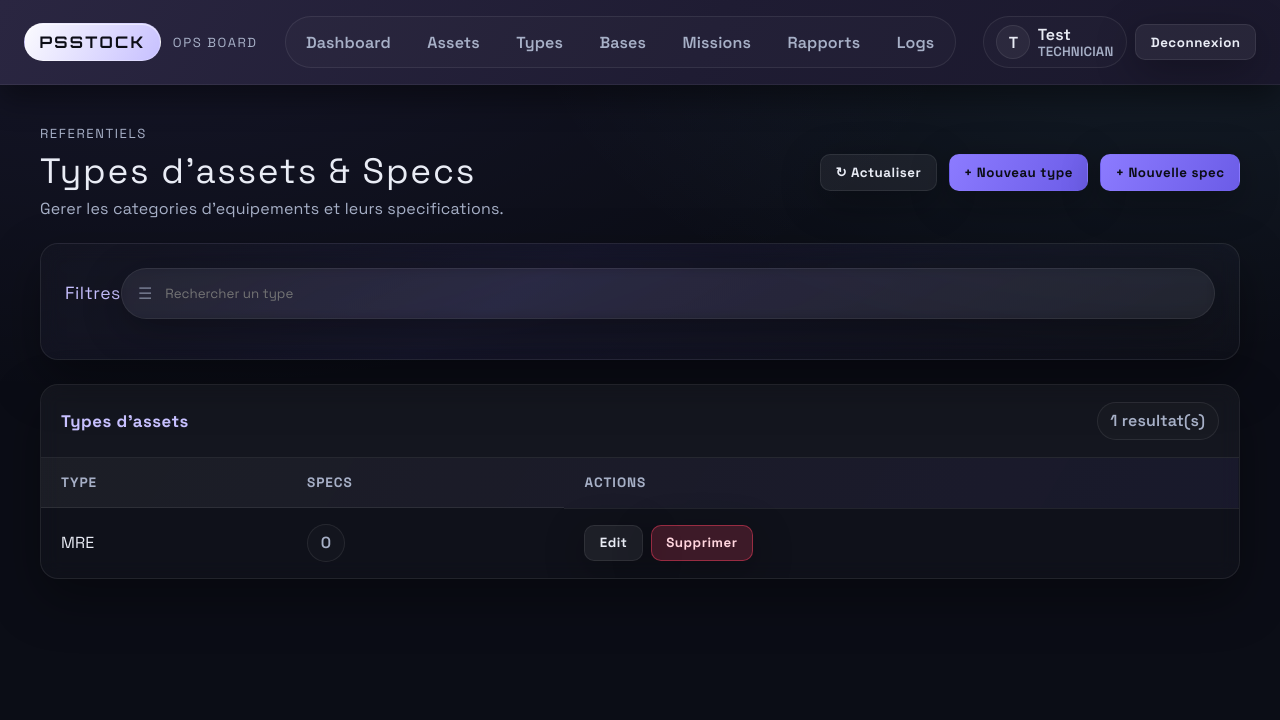
AssetTypesPage – spec panel › shows empty message when no specs
The width and height of the screenshot is (1280, 720).
Click the text "MRE".
click(164, 543)  # box [41,508,287,578]
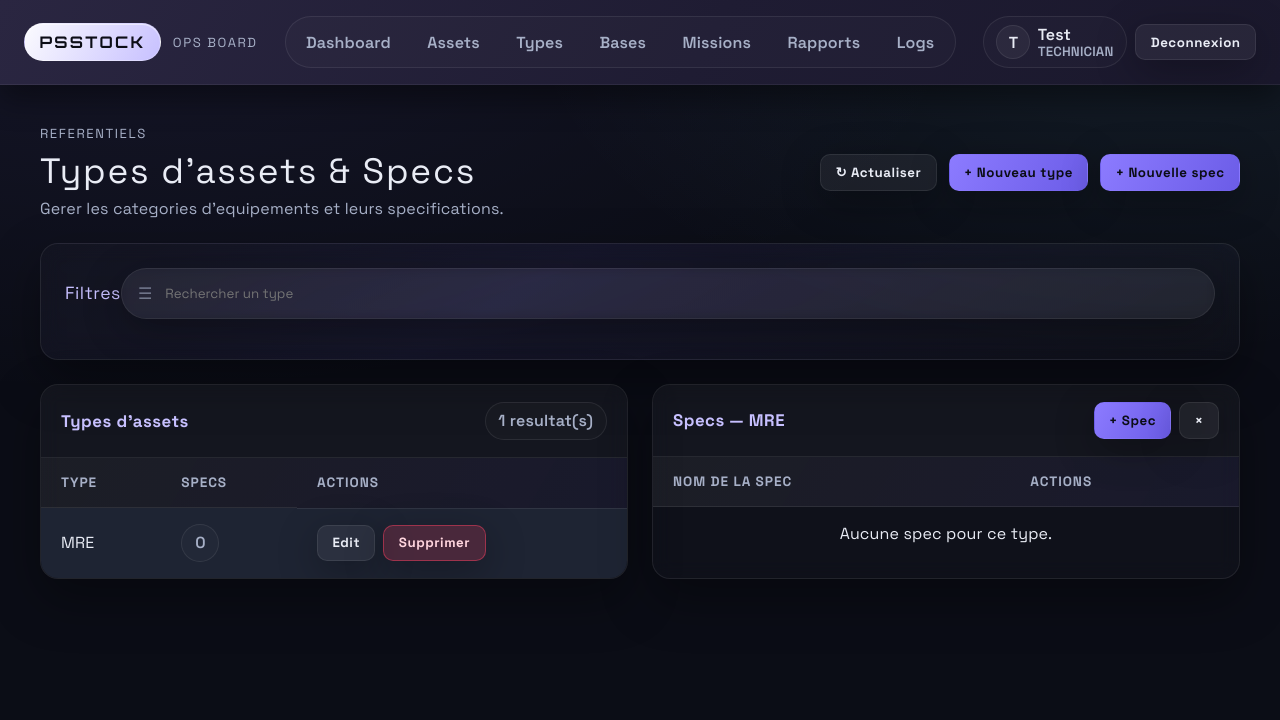
Expected: the text "Aucune spec pour ce type." is shown, [653,507,1239,560]
